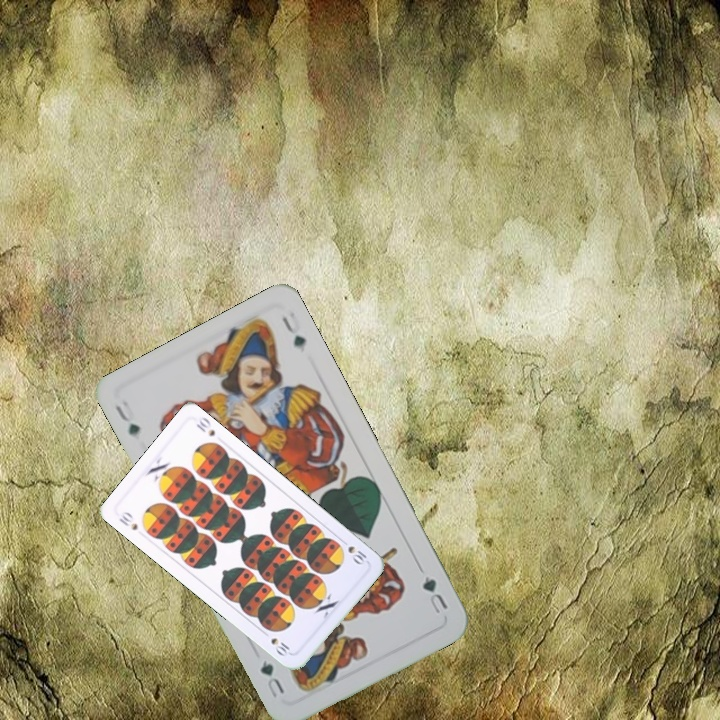GU: (418, 571, 451, 617), (110, 400, 143, 438)
S10: (336, 535, 371, 568), (115, 507, 140, 533)
